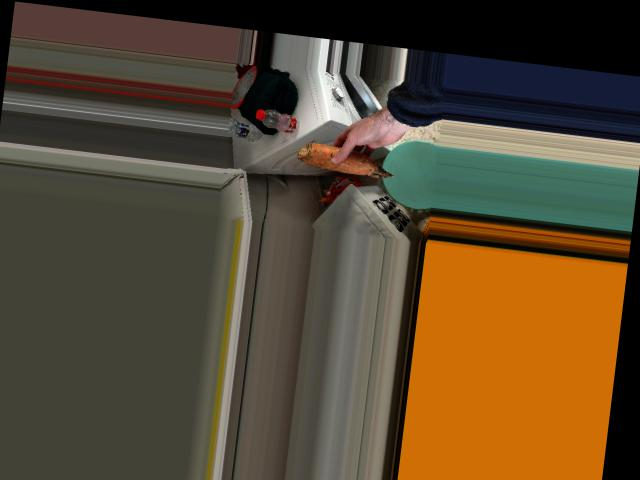sweet_potato: (297, 139, 391, 177)
